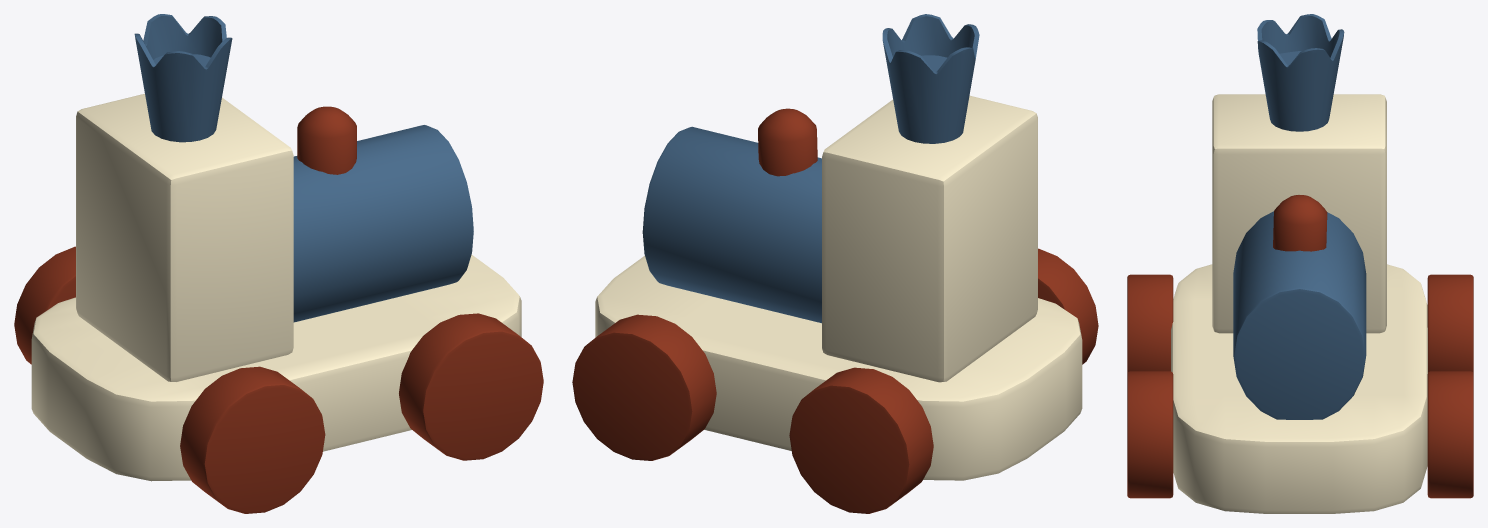
File: SM_Train_Front.fbx
The picture shows the model from 3 angles, left to right: view 1: azimuth 30°, elevation 25°; view 2: azimuth 150°, elevation 25°; view 3: azimuth 270°, elevation 25°; orthographic projection. The views are drawn at different scales.
Visible parts, largest first — view 1: SM_Train_Front; view 2: SM_Train_Front; view 3: SM_Train_Front.
Part boxes in pixels (left/top/right/bottom): SM_Train_Front: left=14, top=14, right=543, bottom=513; SM_Train_Front: left=572, top=14, right=1098, bottom=513; SM_Train_Front: left=1127, top=14, right=1473, bottom=513.
Bounding box in the file's own units: 540 × 427 × 503.
